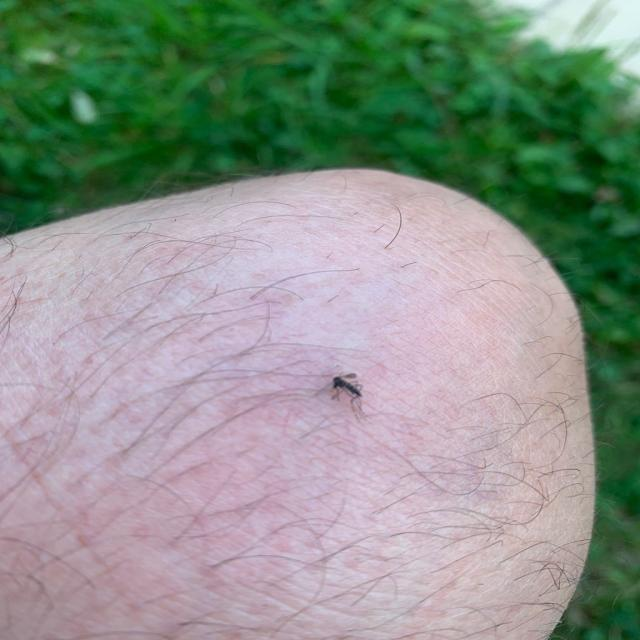albopictus: (274, 359, 384, 429)
